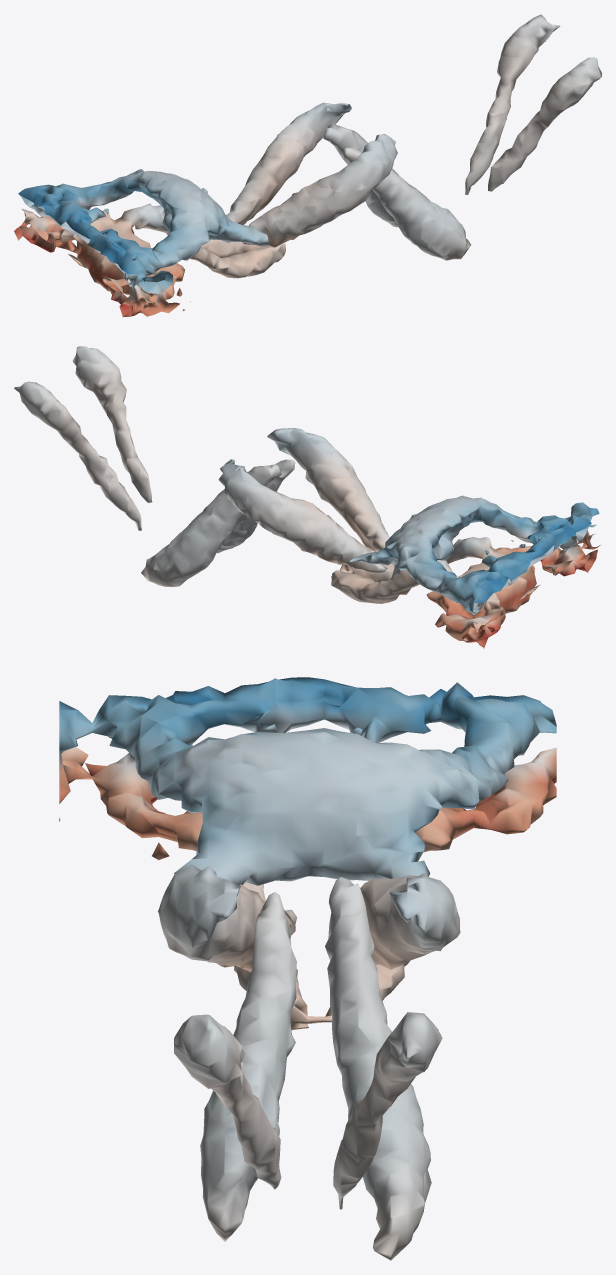
3 renders of one model, top to bottom at view 1: azimuth 30°, elevation 25°; view 2: azimuth 150°, elevation 25°; view 3: azimuth 270°, elevation 25°, orthographic. The views are drawn at different scales.
Bounding box in the file's own units: 5.88 × 1.96 × 2.5.
